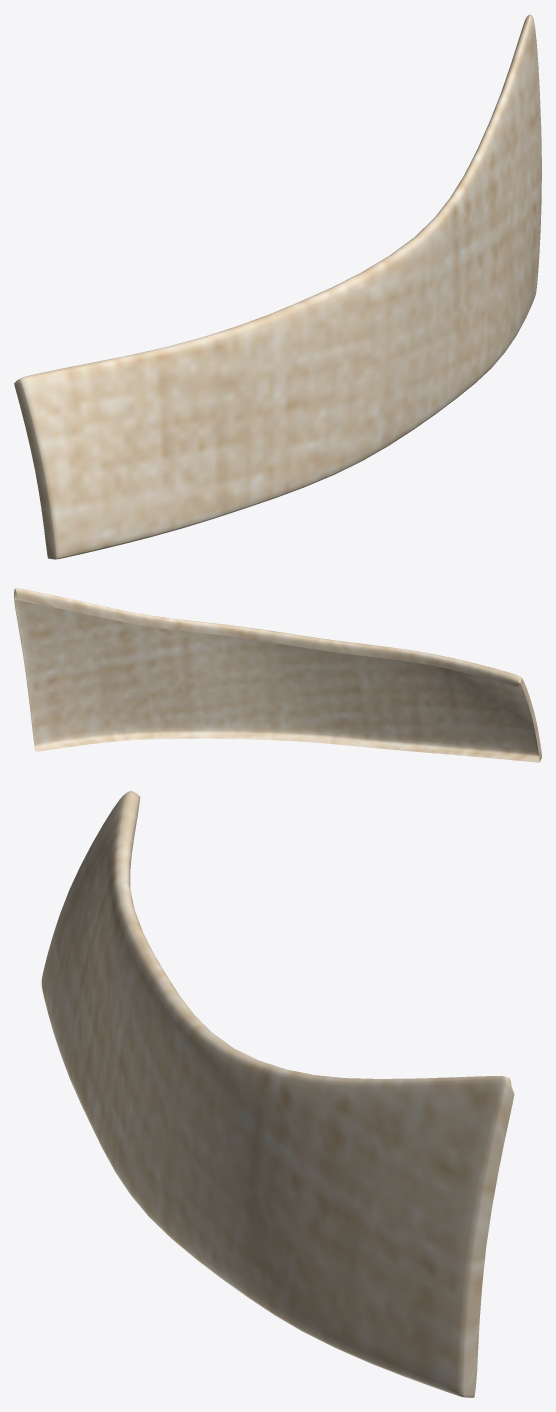
The model's file is upper_halfmoon_pocket.glb.
3 renders of one model, top to bottom at view 1: azimuth 30°, elevation 25°; view 2: azimuth 150°, elevation 25°; view 3: azimuth 270°, elevation 25°, orthographic. The views are drawn at different scales.
Visible parts, largest first — view 1: upper_halfmoon_pocket2; view 2: upper_halfmoon_pocket2; view 3: upper_halfmoon_pocket2.
Part boxes in pixels (box(x1,y1,x2,y2)): upper_halfmoon_pocket2: box(14, 14, 541, 559); upper_halfmoon_pocket2: box(14, 588, 541, 762); upper_halfmoon_pocket2: box(41, 791, 514, 1397).
Bounding box in the file's own units: 0.0126 × 0.00488 × 0.00624.
1 material, 1 textured.
